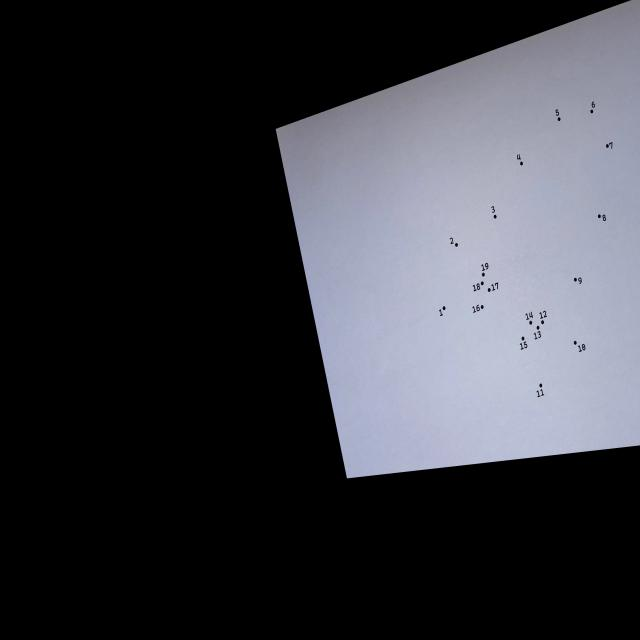Dot: (557, 116, 561, 122), (536, 325, 540, 330), (521, 336, 525, 341), (539, 383, 543, 388), (481, 280, 484, 286), (442, 306, 446, 310), (590, 109, 594, 113), (482, 272, 485, 277), (520, 161, 523, 166), (598, 214, 601, 219), (574, 277, 577, 282), (529, 320, 532, 325), (455, 243, 458, 247), (488, 288, 491, 292), (481, 305, 484, 309), (606, 144, 609, 148), (541, 320, 544, 324), (574, 341, 577, 345), (494, 214, 496, 219)
DotNumber: (574, 341, 586, 354), (536, 383, 545, 398), (472, 281, 484, 292), (488, 282, 499, 293), (534, 325, 542, 340), (520, 336, 528, 351), (481, 262, 489, 276), (525, 311, 533, 325), (540, 310, 548, 324), (472, 304, 484, 313), (450, 237, 458, 247), (491, 206, 497, 219), (555, 109, 561, 122), (517, 154, 523, 166), (439, 306, 446, 316), (590, 101, 595, 113), (606, 142, 614, 149), (598, 214, 606, 221), (574, 278, 582, 284)
Number: (481, 262, 489, 272), (472, 282, 480, 292), (578, 343, 586, 353), (536, 388, 544, 398), (491, 282, 499, 291), (472, 304, 480, 313), (526, 312, 534, 321), (540, 310, 548, 319), (520, 341, 528, 350), (534, 331, 541, 340), (450, 237, 454, 245), (602, 214, 606, 222), (578, 277, 582, 285), (439, 309, 443, 316), (491, 206, 495, 213), (556, 109, 560, 116), (591, 101, 595, 108), (609, 142, 613, 149), (517, 154, 521, 160)
